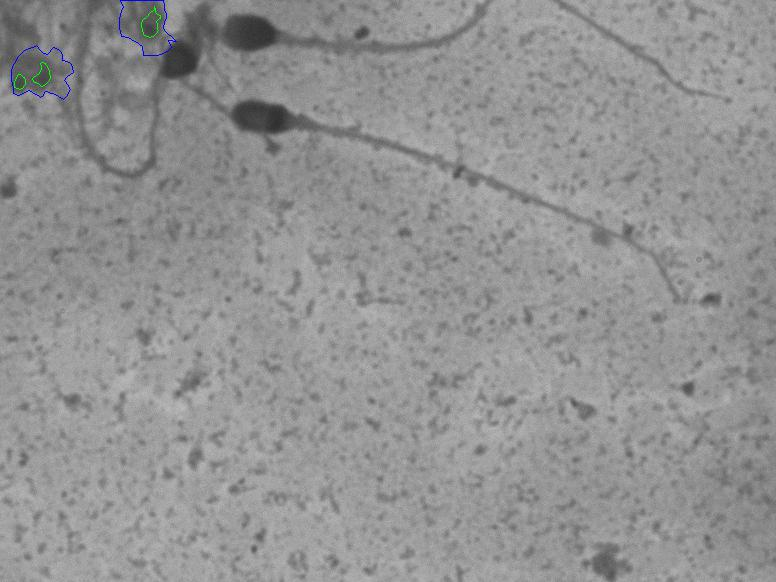Abnormal: (218, 84, 495, 200)
